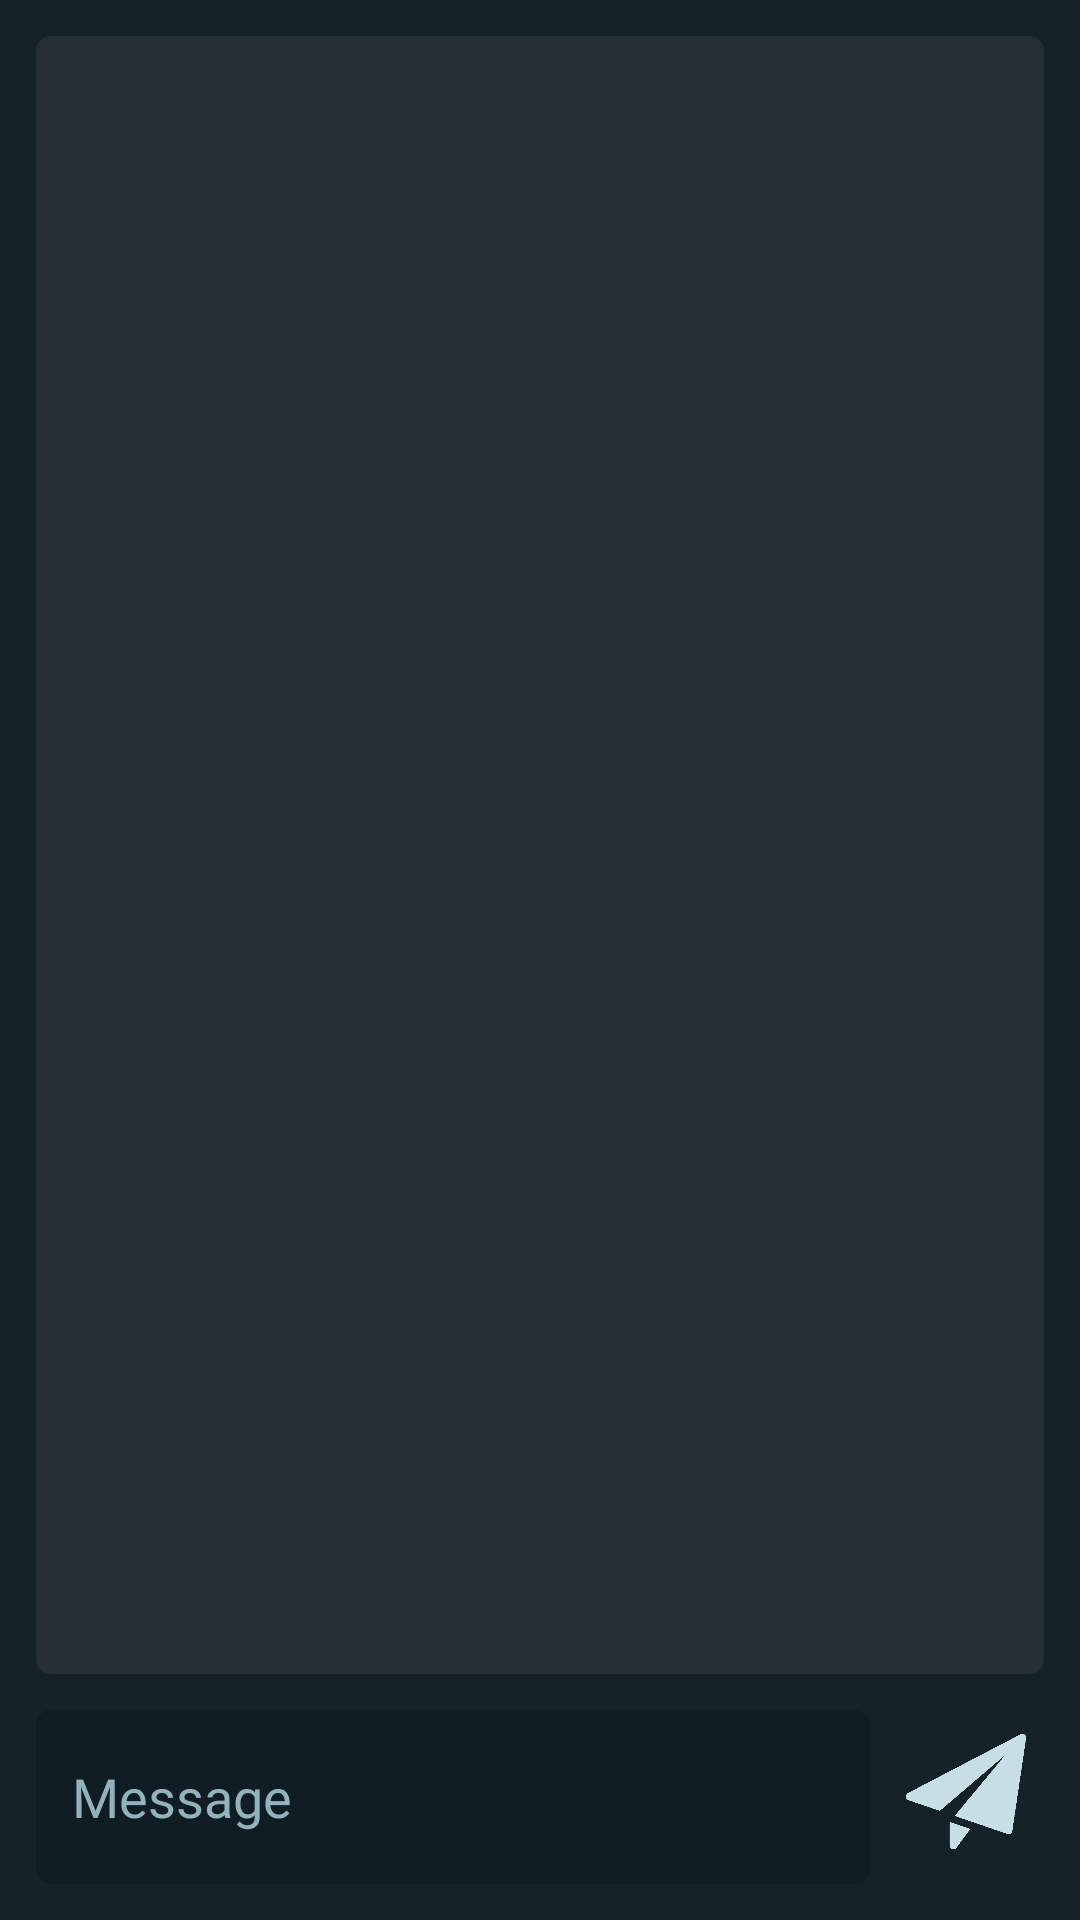

Screen size 1080w x 1920h. Icon name, then its box in pixels as (x1, y1, x2, y2):
send: (906, 1734, 1026, 1849)
